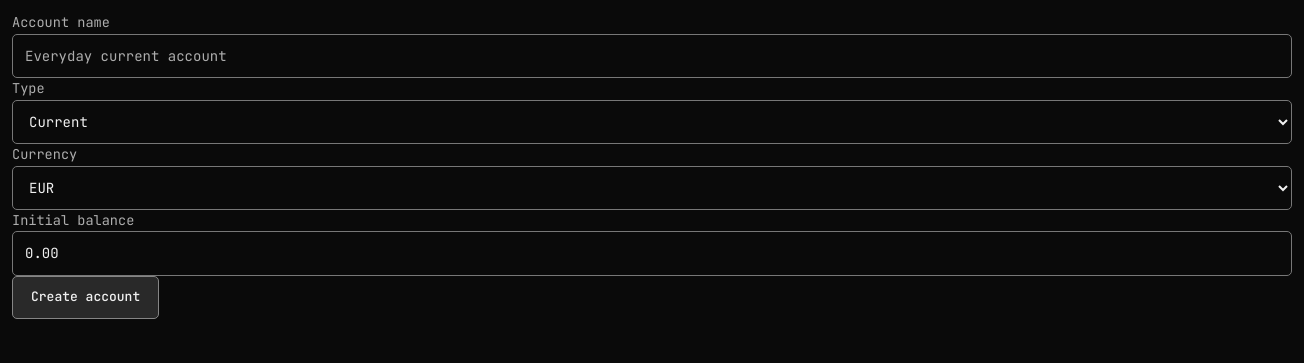
retains input and reports a failed mutation
The width and height of the screenshot is (1304, 363).
Type "Everyday" into the field labelled "Account name" at [652, 56], box [12,34,1292,78]
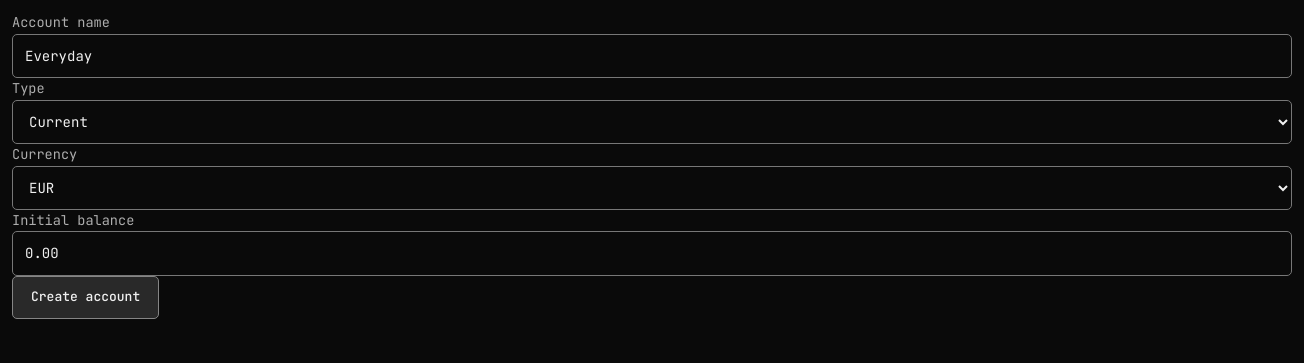
Replace the text in the field labelled "Initial balance" with "1.00" at [652, 254], box [12,231,1292,276]
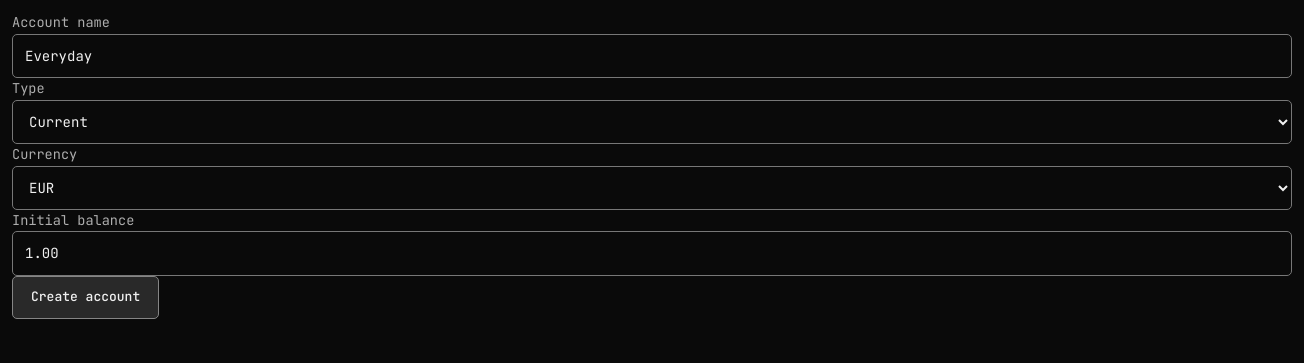
Click the button "Create account" at [86, 297], box [12,276,159,319]
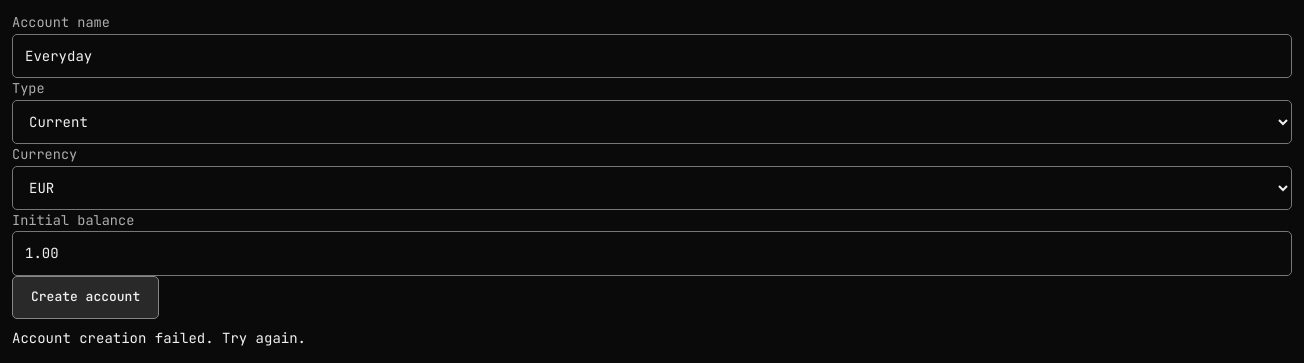
Expected: the message shows "Account creation failed", [12,329,306,347]
